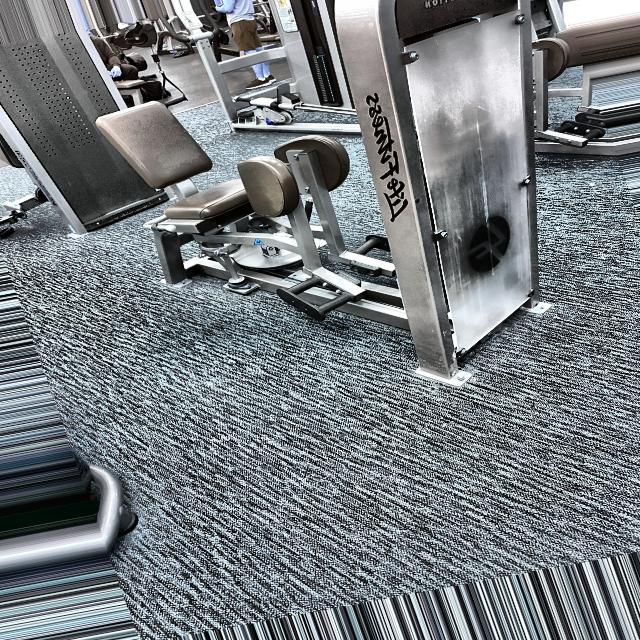hip_adduction_machine: (125, 105, 365, 321), (226, 124, 365, 264), (374, 0, 522, 39)
